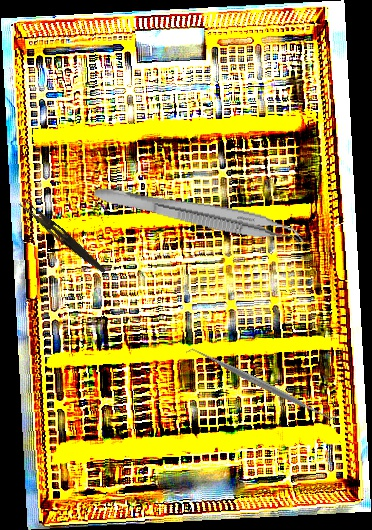Dressing Forceps: (16, 198, 110, 275)
Spatula Surgical: (184, 338, 342, 430)
Tissue Forceps: (91, 184, 309, 250)
